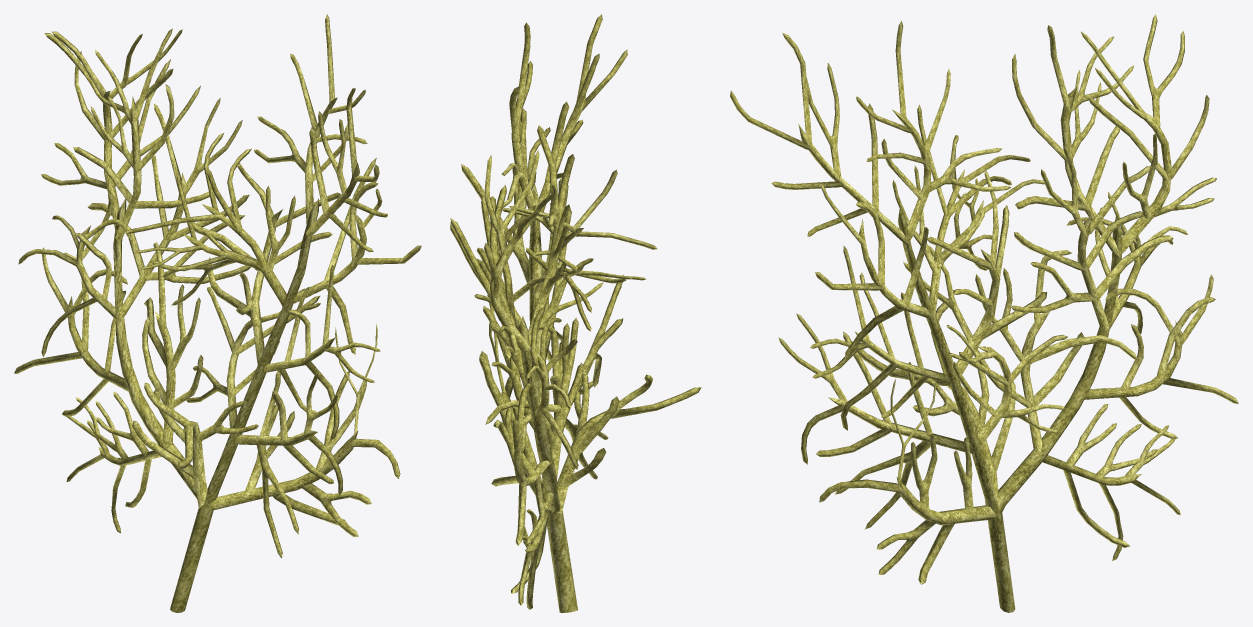
Rendered from FanCoralCluster.005_FBX_still.fbx.
The picture shows the model from 3 angles, left to right: view 1: azimuth 30°, elevation 25°; view 2: azimuth 150°, elevation 25°; view 3: azimuth 270°, elevation 25°; orthographic projection. The views are drawn at different scales.
Visible parts, largest first — view 1: FanCoralCluster.005_gameasset; view 2: FanCoralCluster.005_gameasset; view 3: FanCoralCluster.005_gameasset.
Boxes of the visible parts, <box> form: FanCoralCluster.005_gameasset: <box>14,14,421,612</box>; FanCoralCluster.005_gameasset: <box>450,14,701,612</box>; FanCoralCluster.005_gameasset: <box>730,14,1238,612</box>.
Bounding box in the file's own units: 1.72 × 4.17 × 3.01.
Materials: 1 (1 with a texture image).
